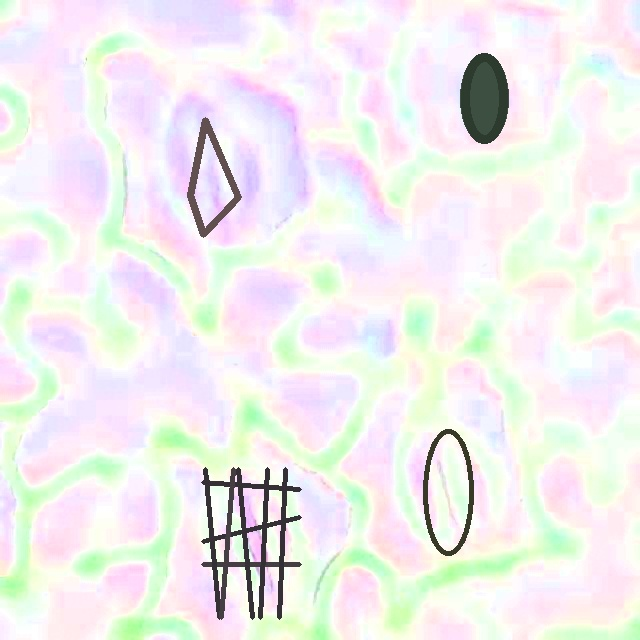open: (201, 467, 301, 619), (423, 428, 473, 556), (188, 118, 241, 236), (460, 53, 507, 142)
